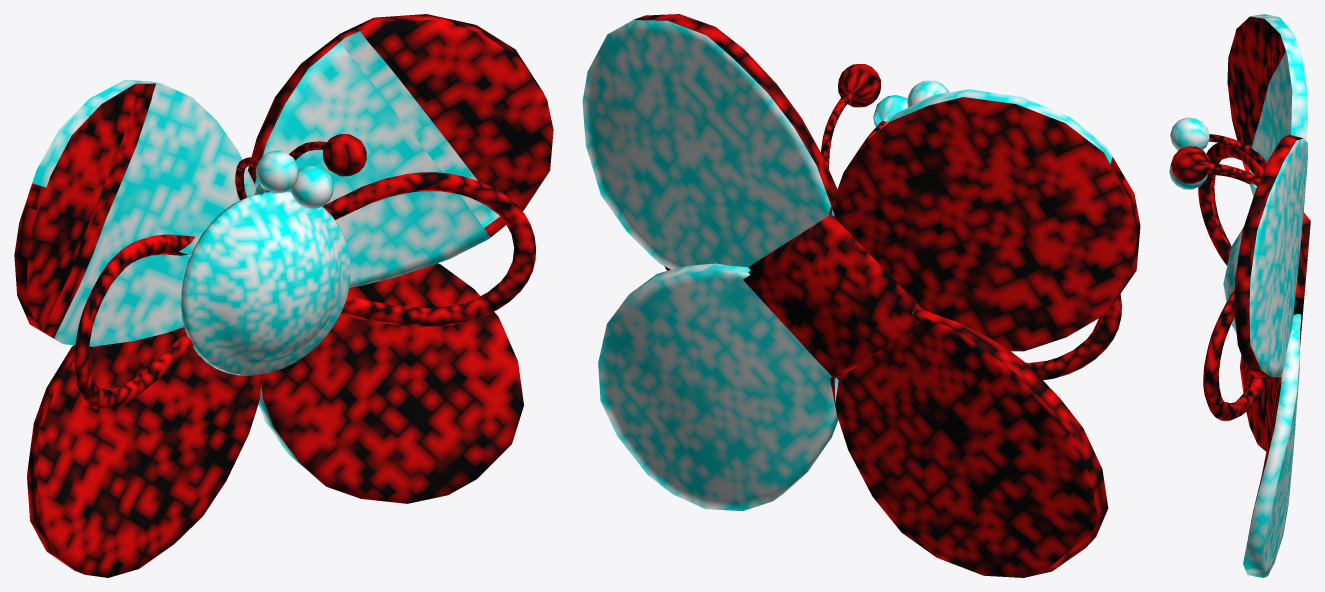
File: SM_Sophia_brooch_01_RSW.fbx
3 renders of one model, left to right at view 1: azimuth 30°, elevation 25°; view 2: azimuth 150°, elevation 25°; view 3: azimuth 270°, elevation 25°, orthographic. The views are drawn at different scales.
Parts seen in each view (by area): view 1: SM_Sophia_brooch_01_RSW; view 2: SM_Sophia_brooch_01_RSW; view 3: SM_Sophia_brooch_01_RSW.
Part boxes in pixels (bbox=[...]): SM_Sophia_brooch_01_RSW: bbox=[14, 14, 553, 577]; SM_Sophia_brooch_01_RSW: bbox=[582, 14, 1140, 577]; SM_Sophia_brooch_01_RSW: bbox=[1169, 14, 1310, 577].
Bounding box in the file's own units: 12.46 × 10.59 × 3.25.
